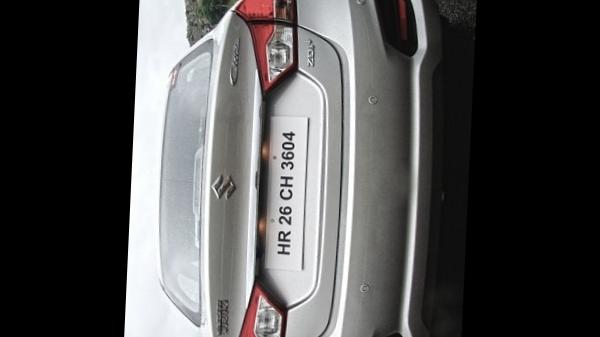plate: (257, 109, 316, 279)
